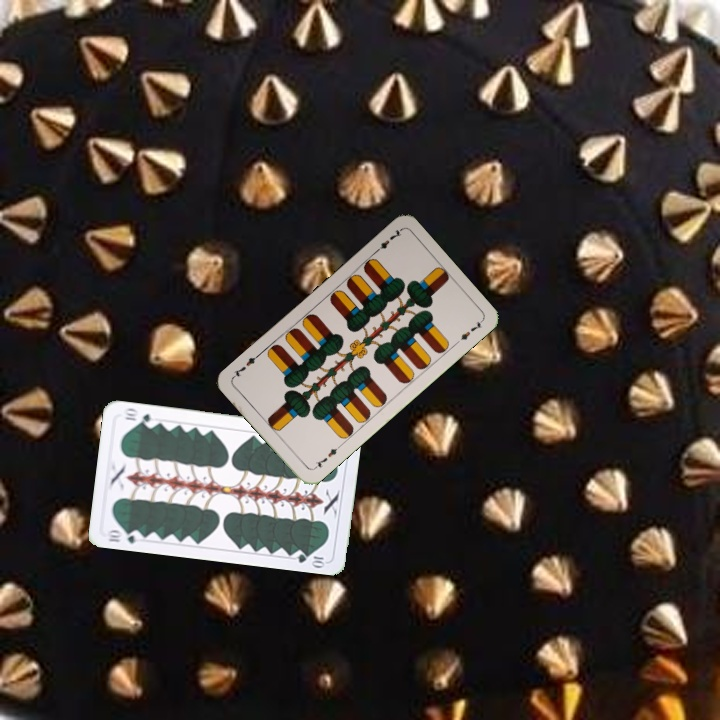E7: (370, 225, 405, 256), (309, 441, 343, 472)
G10: (103, 525, 144, 546)
